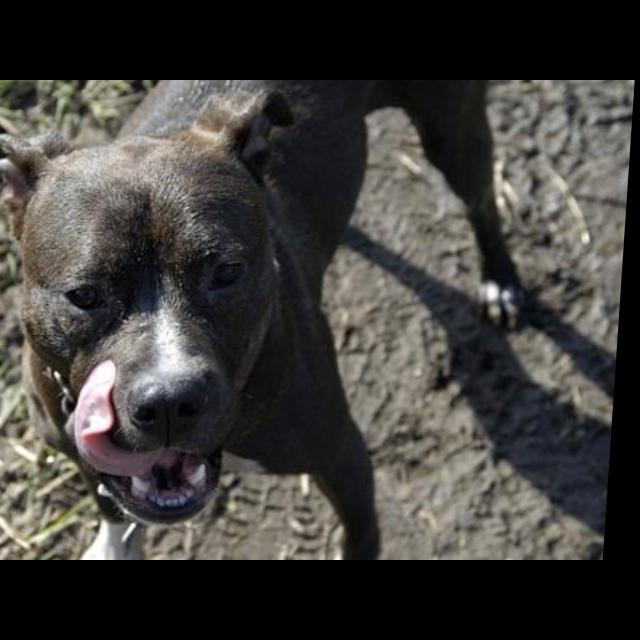amstaff: (1, 81, 545, 561)
